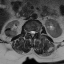CCS_normal: (31, 29, 33, 39)
LFS_stenosis: (35, 29, 38, 35)
LLS_normal: (33, 29, 35, 36)
RFS_normal: (27, 28, 29, 34)
RLS_normal: (29, 29, 31, 36)
